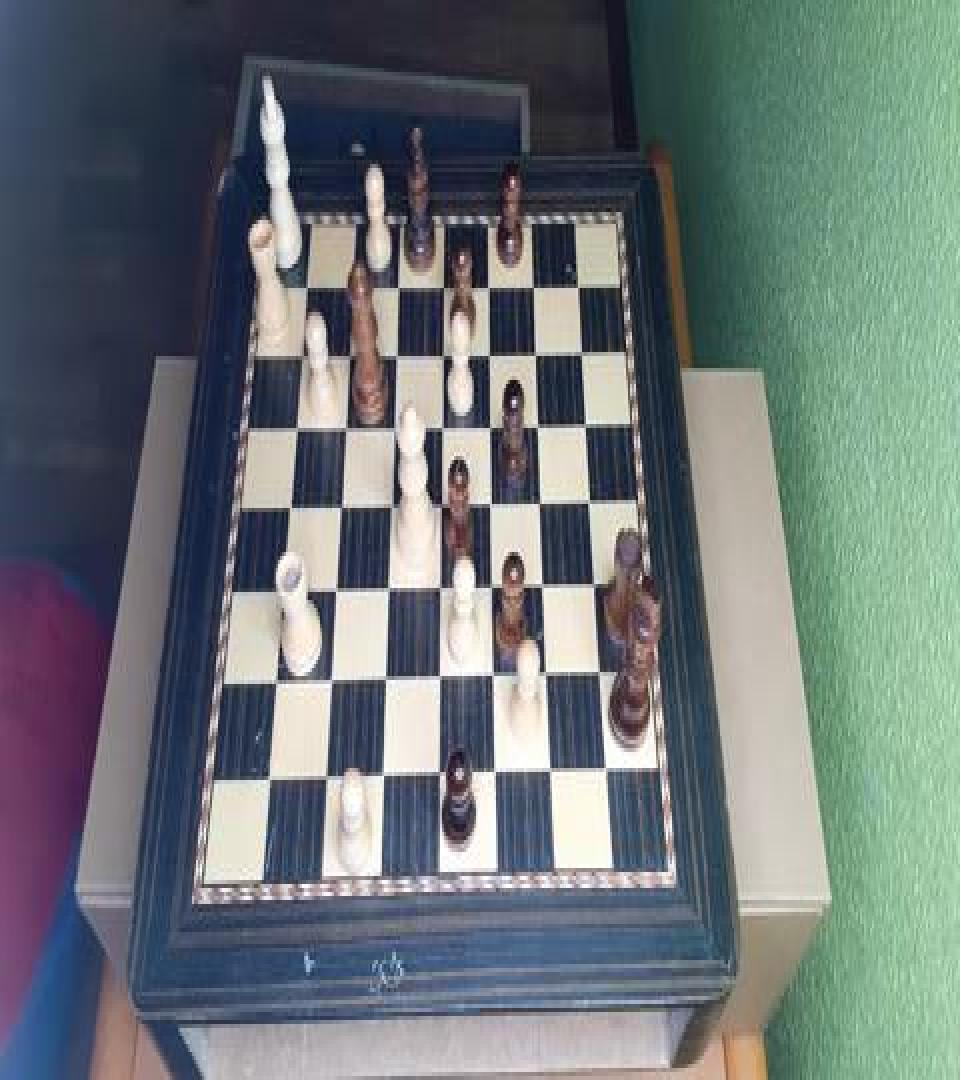xcorner: (570, 264, 584, 292), (525, 264, 539, 292), (480, 264, 494, 292), (434, 264, 448, 292), (388, 264, 402, 292), (342, 264, 356, 292), (296, 264, 310, 292), (574, 332, 588, 360), (528, 332, 542, 360), (481, 332, 495, 360), (434, 332, 448, 360), (386, 334, 400, 362), (339, 334, 353, 362), (291, 334, 305, 362), (579, 404, 593, 432), (531, 406, 545, 434), (482, 406, 496, 434), (433, 406, 447, 434), (384, 406, 398, 434), (335, 408, 349, 436), (285, 408, 299, 436), (584, 484, 598, 512), (534, 484, 548, 512), (483, 484, 497, 512), (433, 486, 447, 514), (382, 486, 396, 514), (331, 486, 345, 514), (279, 488, 293, 516), (589, 568, 603, 596), (537, 568, 551, 596), (485, 570, 499, 598), (432, 570, 446, 598), (379, 570, 393, 598), (326, 572, 340, 600), (273, 572, 287, 600), (594, 658, 608, 686), (540, 660, 554, 688), (486, 660, 500, 688), (431, 662, 445, 690), (376, 662, 390, 690), (321, 664, 335, 692), (266, 666, 280, 694), (600, 756, 614, 784), (544, 758, 558, 786), (487, 760, 501, 788), (431, 760, 445, 788), (373, 762, 387, 790), (316, 764, 330, 792), (258, 766, 272, 794)
